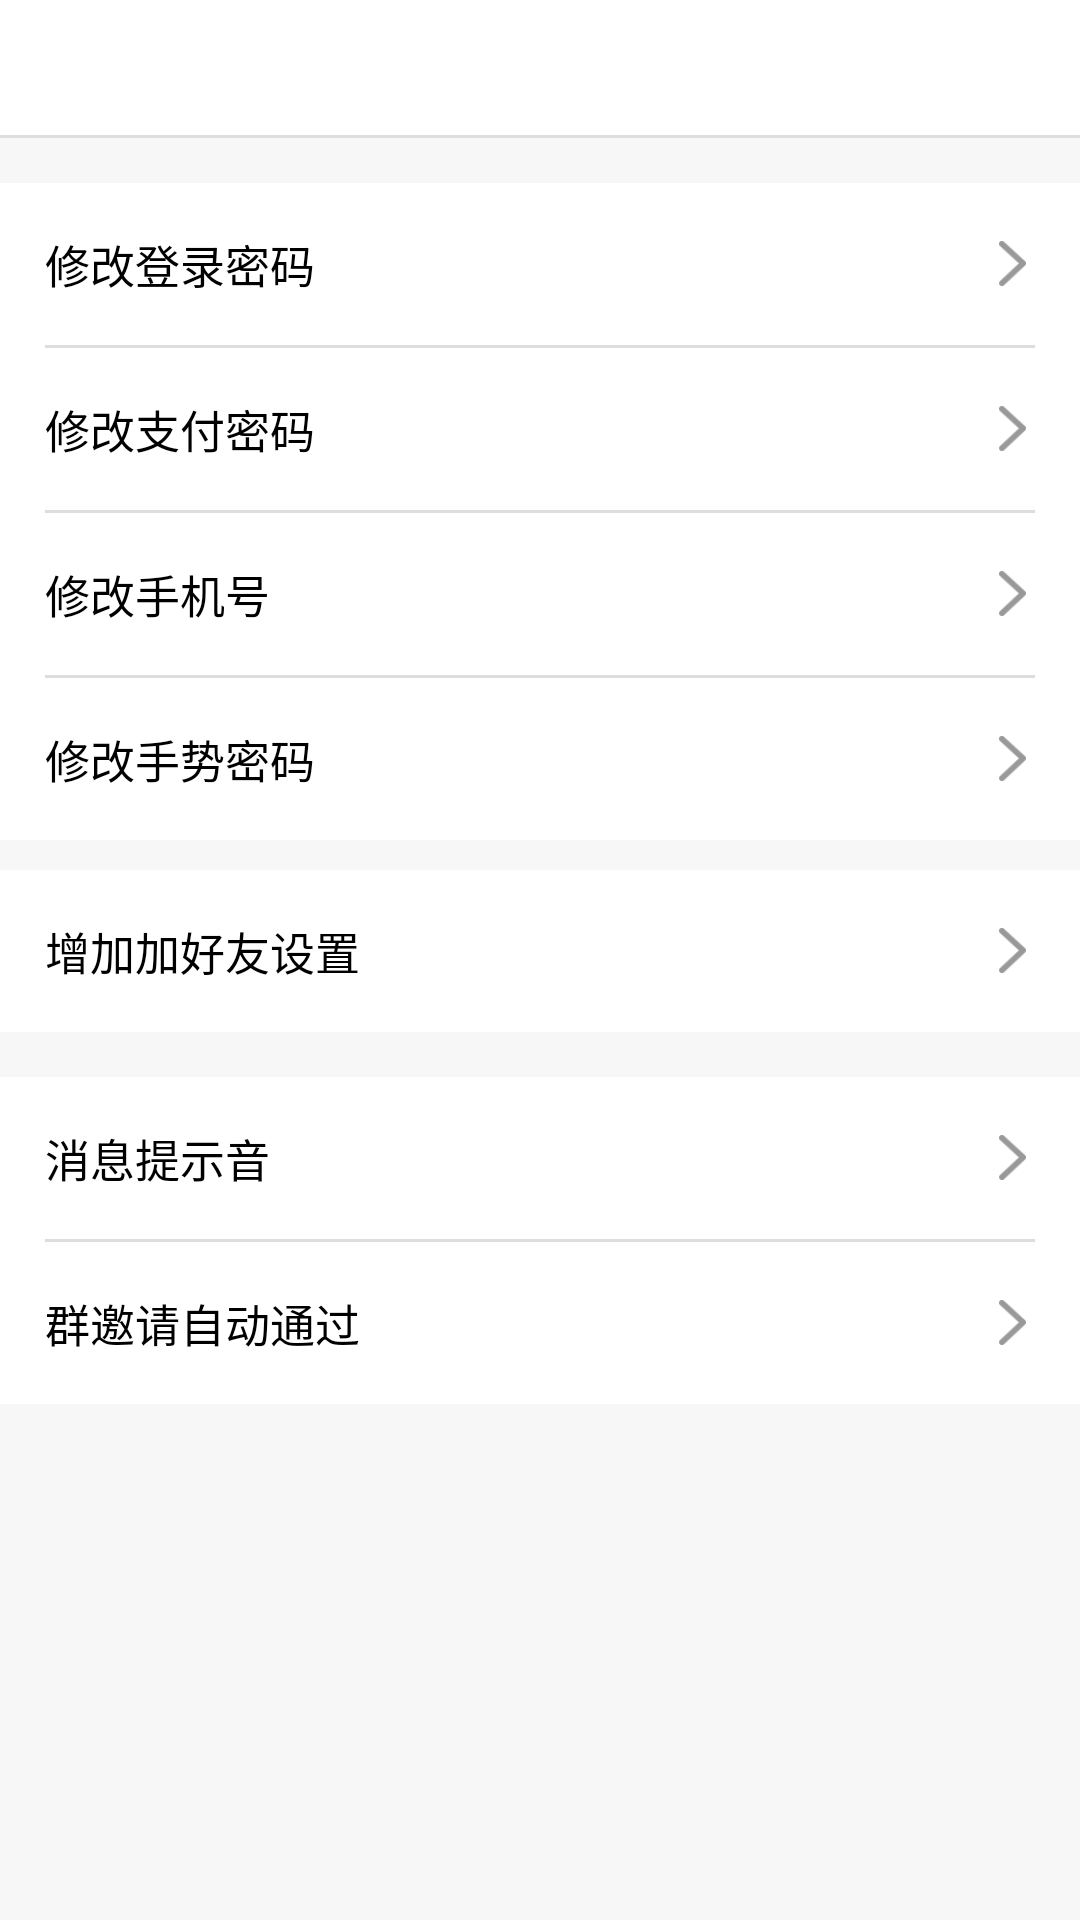

Screen size 1080w x 1920h. Icon name, then its box in pixels as (x1, y1, x2, y2):
arrow right: (999, 241, 1026, 286), (999, 406, 1026, 451), (999, 571, 1026, 616), (999, 736, 1026, 781), (999, 928, 1026, 973), (999, 1135, 1026, 1180), (999, 1300, 1026, 1345)
